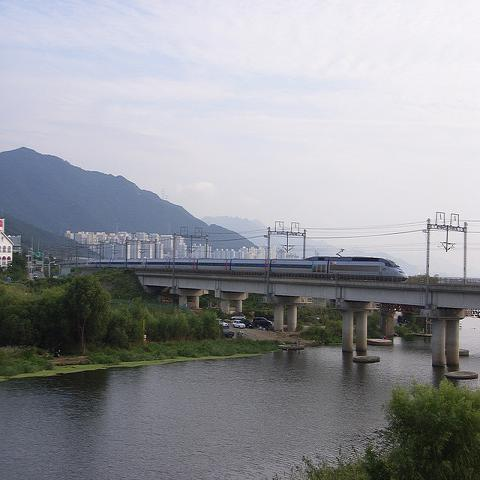car: (252, 316, 272, 328), (222, 326, 236, 338), (232, 320, 246, 329), (216, 319, 229, 327), (240, 320, 253, 328), (231, 314, 246, 320), (33, 273, 38, 279)
